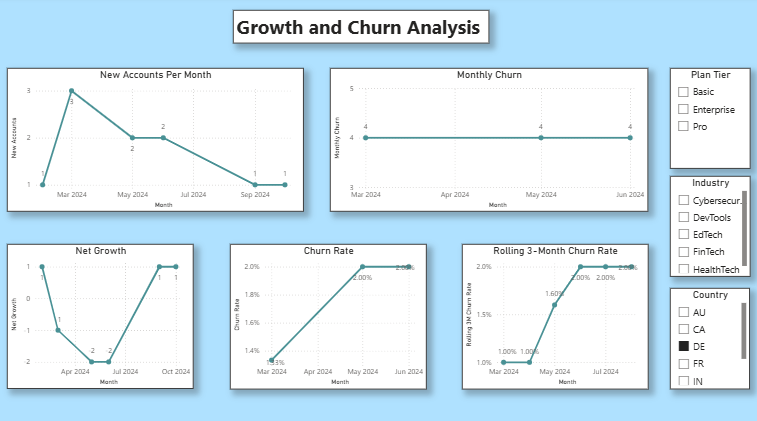

This screenshot's page, from the dashboard's own definition file:
{"tool":"powerbi","page":{"name":"Page 2","canvas":[1280,720],"ordinal":1},"visuals":[{"type":"clusteredColumnChart","title":"New Accounts Per Month","fields":{"Category":["MonthTable_Summary.MonthStart"],"Y":["clean accounts.New Accounts"],"Series":["clean accounts.plan_tier"]},"box":[24.1,98.9,524.8,241.3],"z":0},{"type":"lineChart","title":"Monthly Churn","fields":{"Y":["clean accounts.Monthly Churn"],"Category":["MonthTable_Summary.MonthStart"]},"box":[557.4,98.9,556.2,241.3],"z":1000},{"type":"lineChart","title":"Churn Rate","fields":{"Category":["MonthTable_Summary.MonthStart"],"Y":["clean accounts.Churn Rate"]},"box":[266.6,359.5,415,334.2],"z":2000},{"type":"pivotTable","title":"Net Growth","fields":{"Values":["clean accounts.Net Growth"],"Rows":["MonthTable_Summary.MonthStart.Variation.Date Hierarchy.Year","MonthTable_Summary.MonthStart.Variation.Date Hierarchy.Quarter","MonthTable_Summary.MonthStart.Variation.Date Hierarchy.Month","MonthTable_Summary.MonthStart.Variation.Date Hierarchy.Day"]},"box":[24.1,359.5,223.2,334.2],"z":3000},{"type":"lineChart","title":"Rolling 3-Month Churn Rate","fields":{"Y":["clean accounts.Rolling 3M Churn Rate"],"Category":["MonthTable_Summary.MonthStart"]},"box":[693.7,359.5,428.3,334.2],"z":4000},{"type":"slicer","title":"Plan Tier","fields":{"Values":["clean accounts.plan_tier"]},"box":[1130.4,98.9,133.9,184.6],"z":5000},{"type":"slicer","title":"Industry","fields":{"Values":["clean accounts.industry"]},"box":[1130.4,301.6,133.9,190.6],"z":6000},{"type":"textbox","box":[474.1,27.7,383.6,55.5],"z":7000},{"type":"slicer","title":"Country","fields":{"Values":["clean accounts.country"]},"box":[1130.4,505.5,133.9,189.4],"z":8000},{"type":"actionButton","box":[0,0,100,40],"z":8001}]}

Visuals, with their boxes in screenshot pixels (x1, y1, x2, y2), scaled from the page's 1280x720 canvas onto the 757x421 screenshot:
"New Accounts Per Month" clusteredColumnChart: crop(14, 58, 325, 199)
"Monthly Churn" lineChart: crop(330, 58, 659, 199)
"Churn Rate" lineChart: crop(158, 210, 403, 406)
"Net Growth" pivotTable: crop(14, 210, 146, 406)
"Rolling 3-Month Churn Rate" lineChart: crop(410, 210, 664, 406)
"Plan Tier" slicer: crop(669, 58, 748, 166)
"Industry" slicer: crop(669, 176, 748, 288)
textbox: crop(280, 16, 507, 49)
"Country" slicer: crop(669, 296, 748, 406)
actionButton: crop(0, 0, 59, 23)
